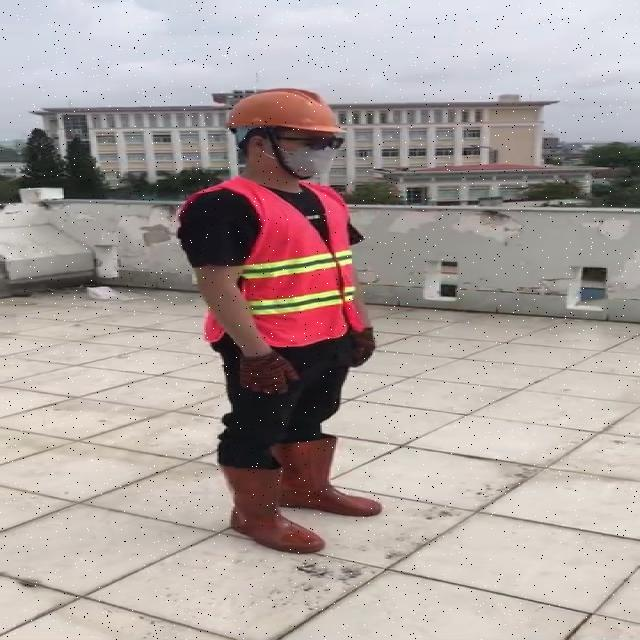Hard_hat: (219, 84, 350, 149)
Person: (168, 86, 380, 632)
Vest: (231, 174, 349, 339)
